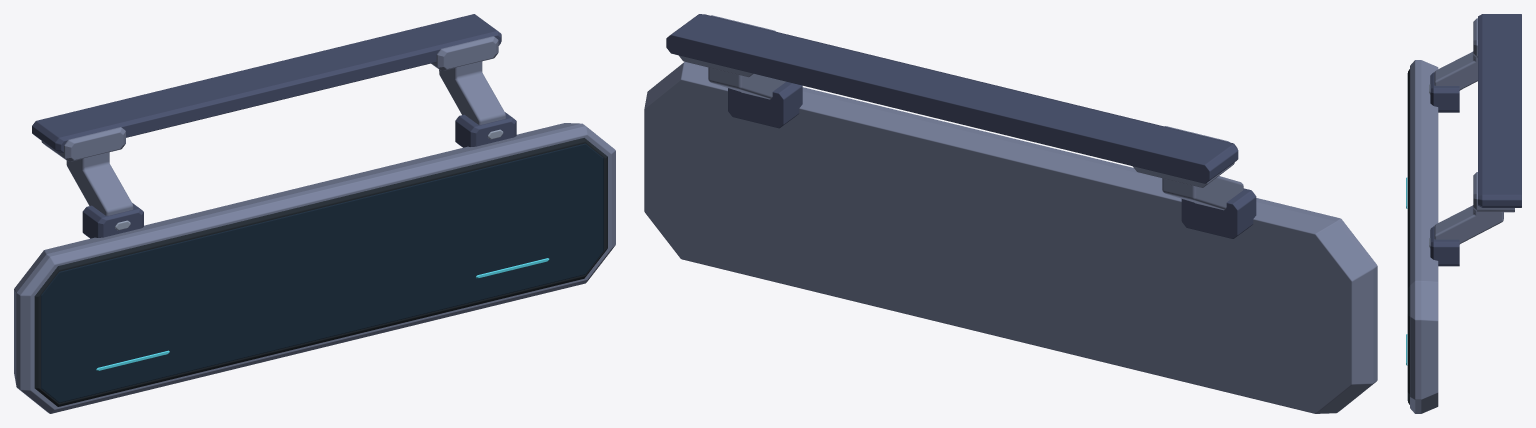
File: operations_sign.glb
The picture shows the model from 3 angles, left to right: view 1: azimuth 30°, elevation 25°; view 2: azimuth 150°, elevation 25°; view 3: azimuth 270°, elevation 25°; orthographic projection. The views are drawn at different scales.
Visible parts, largest first — view 1: Chassis, LightGuides; view 2: Chassis; view 3: Chassis, LightGuides.
Boxes of the visible parts, x1,y1,x2,y2 form: Chassis: [14, 14, 615, 413]; LightGuides: [96, 258, 549, 370]; Chassis: [644, 14, 1377, 413]; Chassis: [1407, 14, 1521, 413]; LightGuides: [1406, 177, 1407, 365].
Size of the model in its own units: 5.15 by 1.94 by 1.03.
